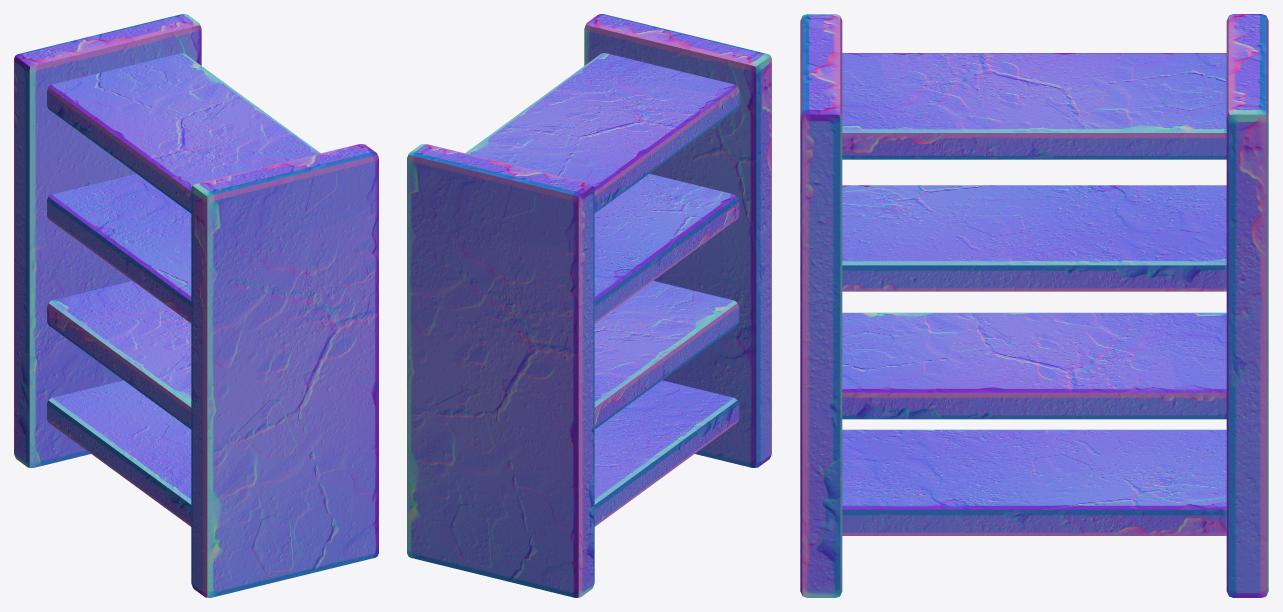
The model's file is Props_StoneBookCase.fbx.
3 views of the same model, side by side, from view 1: azimuth 30°, elevation 25°; view 2: azimuth 150°, elevation 25°; view 3: azimuth 270°, elevation 25° (orthographic). The views are drawn at different scales.
Visible parts, largest first — view 1: CDTMesh_StoneBookCaseHP; view 2: CDTMesh_StoneBookCaseHP; view 3: CDTMesh_StoneBookCaseHP.
Part boxes in pixels (x1,y1,x2,y2): CDTMesh_StoneBookCaseHP: [14, 14, 378, 597]; CDTMesh_StoneBookCaseHP: [407, 14, 771, 597]; CDTMesh_StoneBookCaseHP: [800, 14, 1268, 597].
Size of what is drawn, in the model's own units: 1.56 by 3.46 by 3.01.
